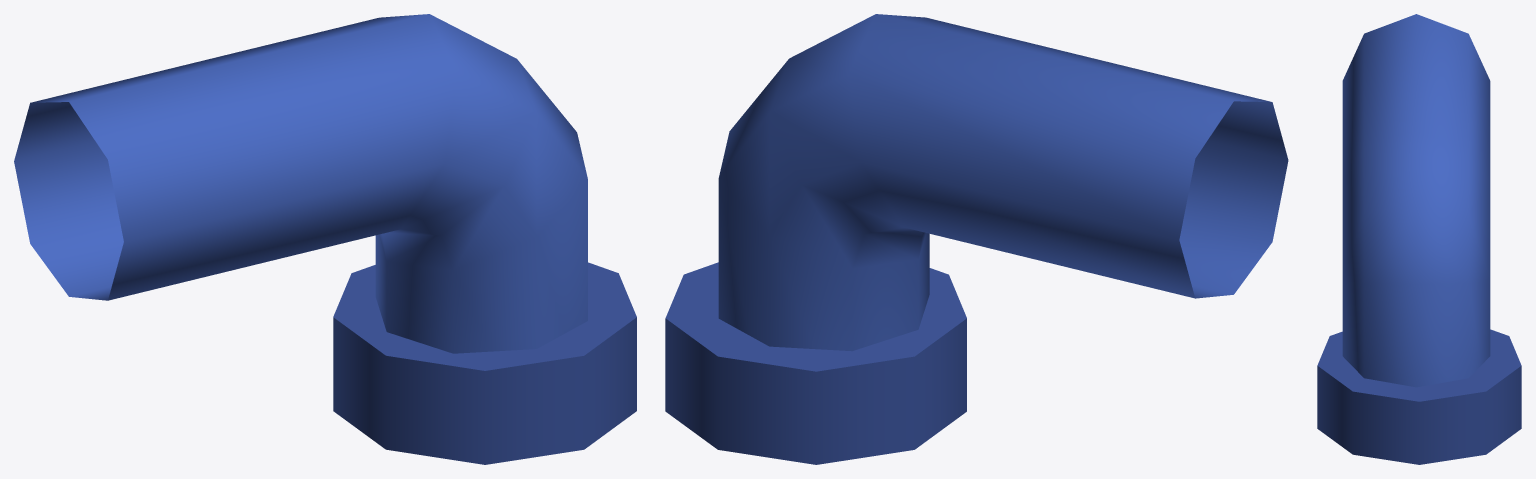
File: Pipe_1_D_2_1.fbx
The picture shows the model from 3 angles, left to right: view 1: azimuth 30°, elevation 25°; view 2: azimuth 150°, elevation 25°; view 3: azimuth 270°, elevation 25°; orthographic projection. The views are drawn at different scales.
Parts seen in each view (by area): view 1: Pipe_1_D_2_1; view 2: Pipe_1_D_2_1; view 3: Pipe_1_D_2_1.
Part boxes in pixels (x1=…): Pipe_1_D_2_1: x1=14, y1=14, x2=636, y2=464; Pipe_1_D_2_1: x1=665, y1=14, x2=1288, y2=464; Pipe_1_D_2_1: x1=1317, y1=14, x2=1521, y2=464.
Size of the model in its own units: 63.18 by 43.92 by 30.12.
